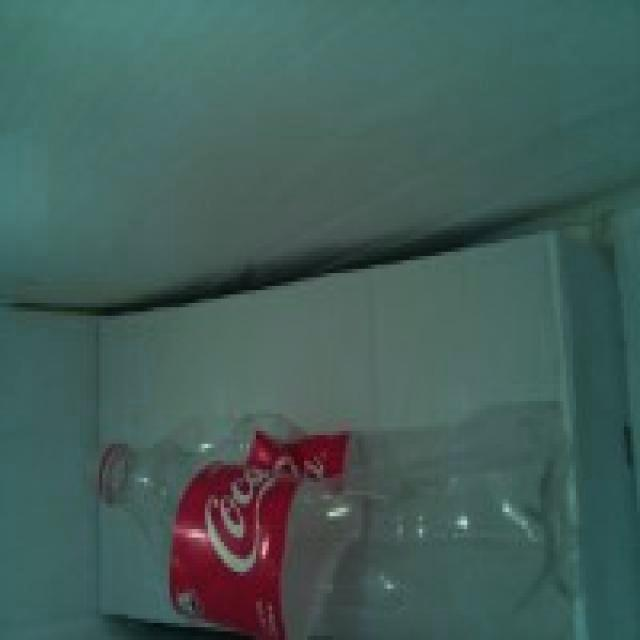bottle: (97, 415, 570, 640)
